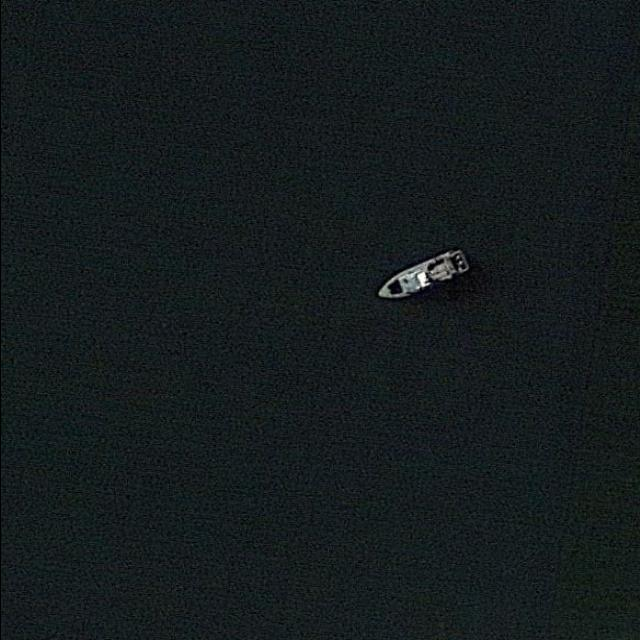ship: (375, 248, 469, 299)
